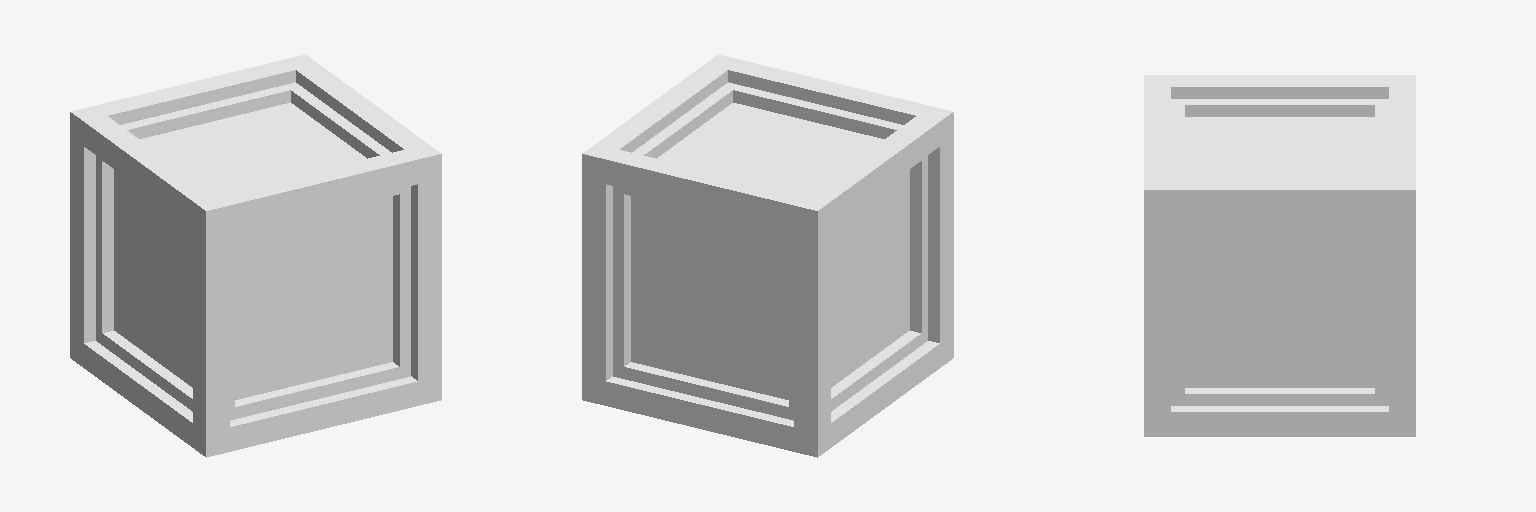
File: blue_crate.obj
3 renders of one model, left to right at view 1: azimuth 30°, elevation 25°; view 2: azimuth 150°, elevation 25°; view 3: azimuth 270°, elevation 25°, orthographic.
Parts seen in each view (by area): view 1: blue_crate; view 2: blue_crate; view 3: blue_crate.
Boxes of the visible parts, box(x1,y1,x2,y2) form: blue_crate: box(70, 54, 441, 457); blue_crate: box(582, 54, 953, 457); blue_crate: box(1144, 75, 1415, 436).
Size of the model in its own units: 20 by 20 by 20.